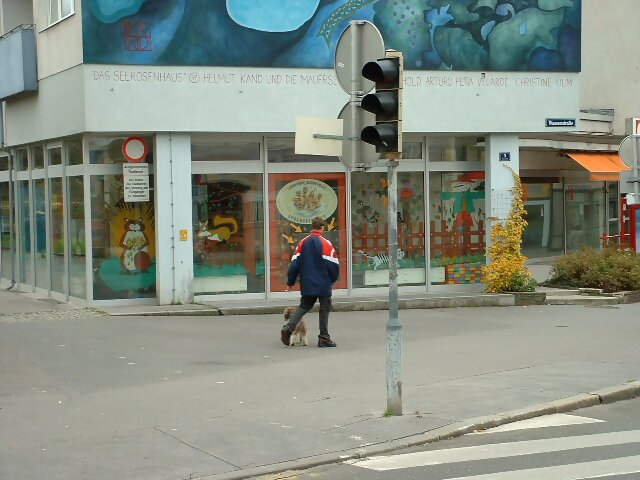person: (279, 216, 351, 352)
